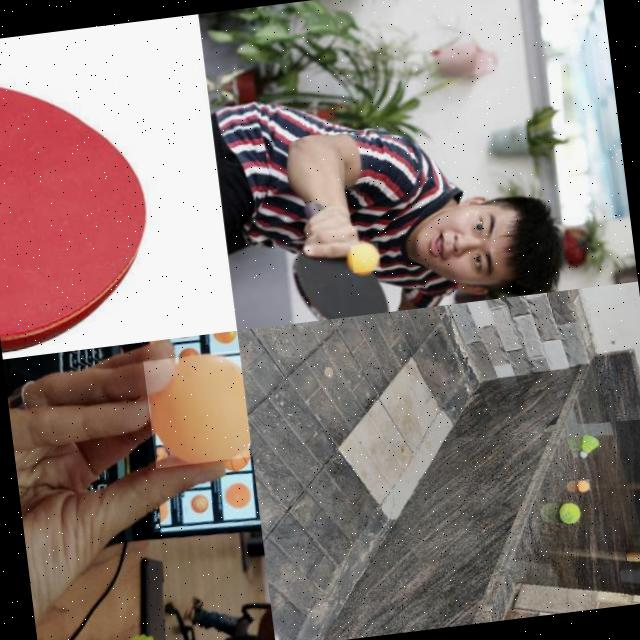ping-pong-ball: (142, 348, 252, 468), (348, 240, 381, 273), (577, 478, 590, 492)
